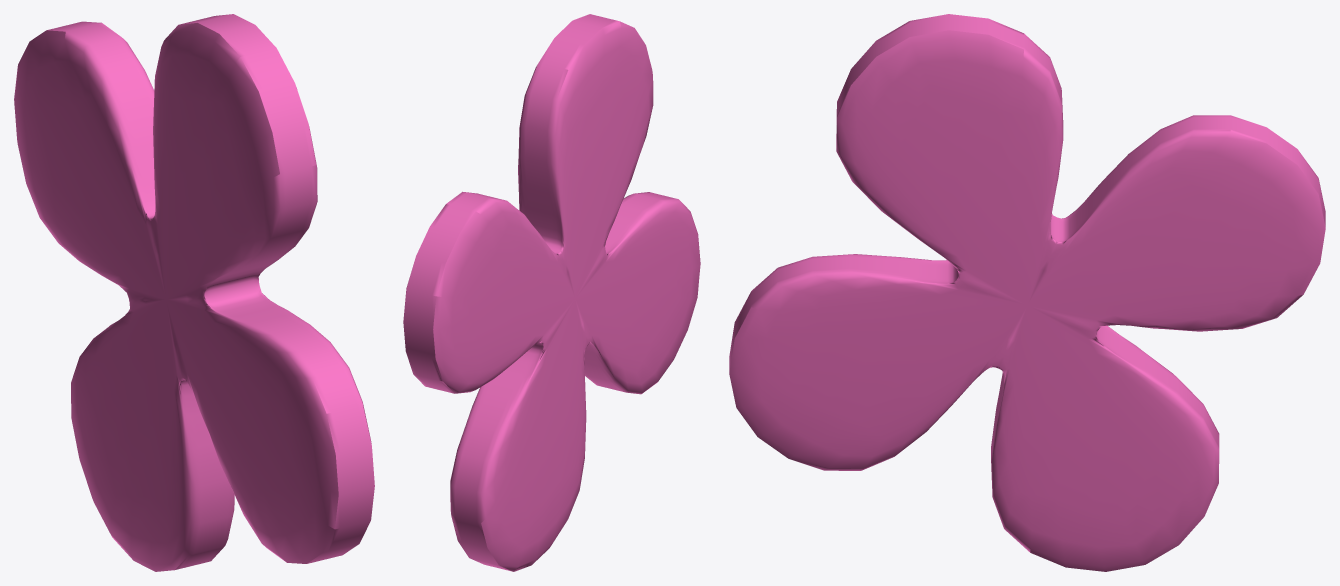
File: decor1.glb
3 renders of one model, left to right at view 1: azimuth 30°, elevation 25°; view 2: azimuth 150°, elevation 25°; view 3: azimuth 270°, elevation 25°, orthographic. The views are drawn at different scales.
Bounding box in the file's own units: 0.027 × 0.2691 × 0.2685.
